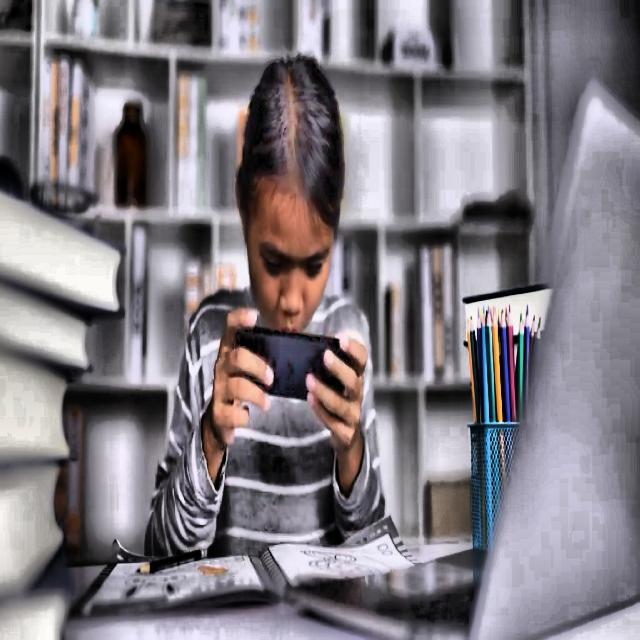Phone: (232, 327, 358, 401)
